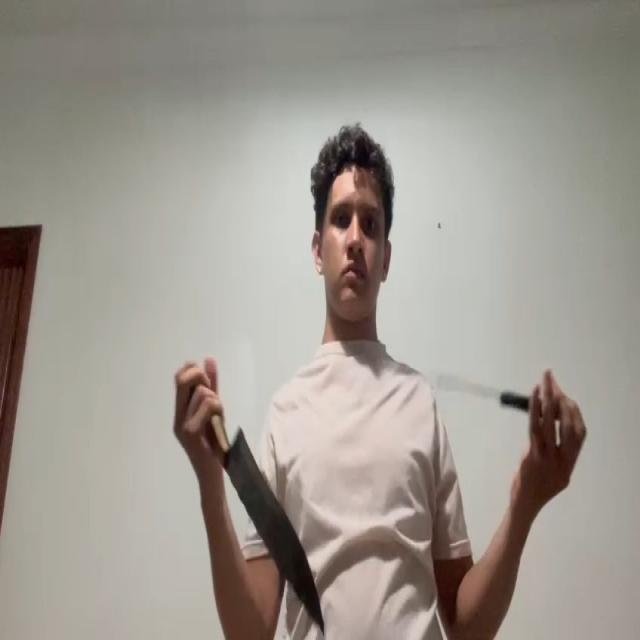knife: (222, 426, 326, 626)
